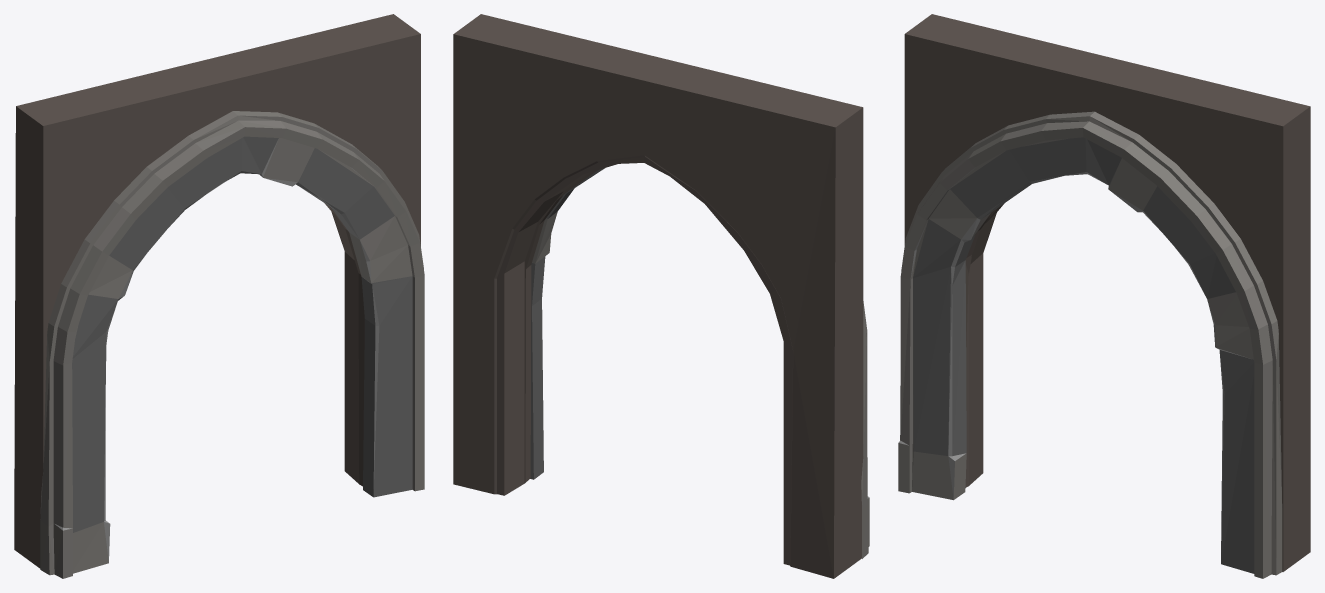
File: MCastle_ArchDoors_02.FBX
3 views of the same model, side by side, from view 1: azimuth 30°, elevation 25°; view 2: azimuth 150°, elevation 25°; view 3: azimuth 330°, elevation 25° (orthographic).
Visible parts, largest first — view 1: MCastle_ArchDoors_02_LOD0; view 2: MCastle_ArchDoors_02_LOD0; view 3: MCastle_ArchDoors_02_LOD0.
Part boxes in pixels (x1=…): MCastle_ArchDoors_02_LOD0: x1=14, y1=14, x2=424, y2=578; MCastle_ArchDoors_02_LOD0: x1=453, y1=14, x2=869, y2=578; MCastle_ArchDoors_02_LOD0: x1=898, y1=14, x2=1310, y2=578.
Size of what is drawn, in the model's own units: 4.01 by 4.5 by 0.7705.
